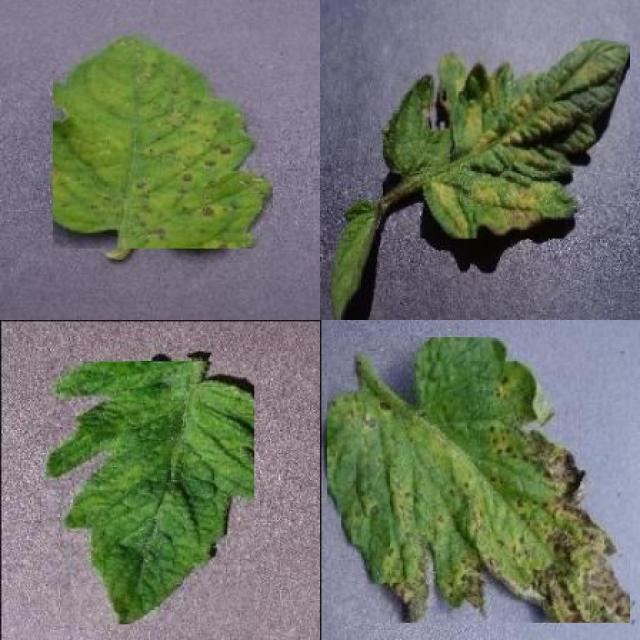Leaf Mold: (383, 42, 630, 238)
Mosaic Virus: (45, 362, 255, 625)
Septoria: (327, 337, 630, 623), (53, 35, 273, 248)
